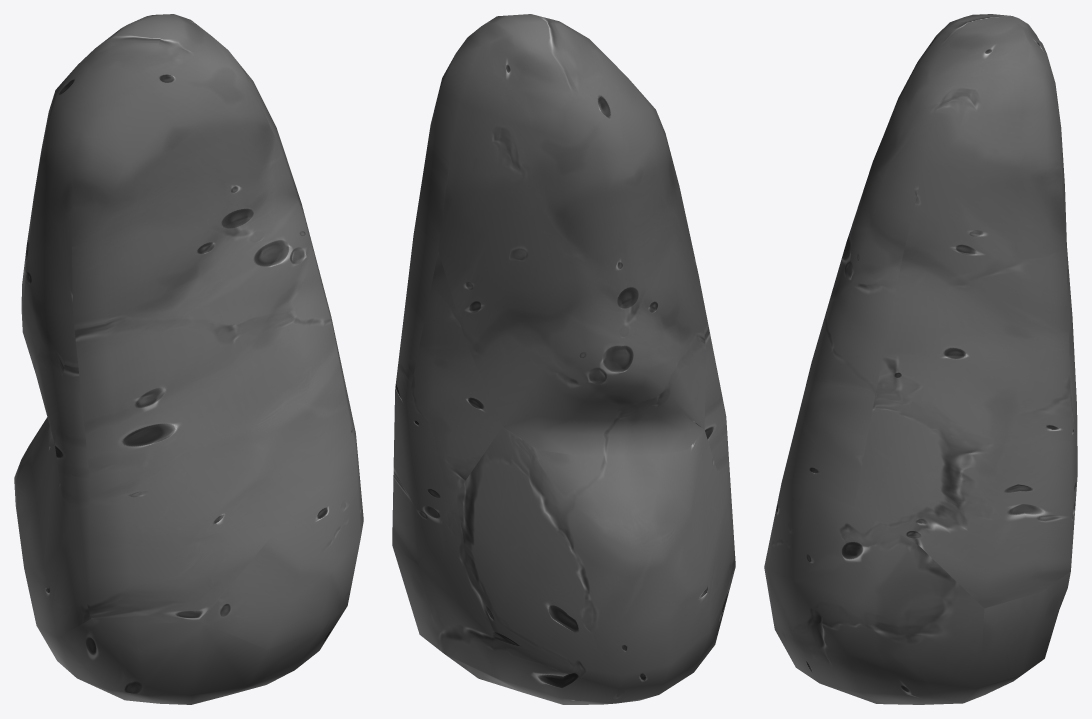
Rendered from SM_ENV_stone_04.fbx.
3 views of the same model, side by side, from view 1: azimuth 30°, elevation 25°; view 2: azimuth 150°, elevation 25°; view 3: azimuth 270°, elevation 25° (orthographic). The views are drawn at different scales.
Parts seen in each view (by area): view 1: SM_ENV_stone_04_LOD0; view 2: SM_ENV_stone_04_LOD0; view 3: SM_ENV_stone_04_LOD0.
Boxes of the visible parts, x1=… form: SM_ENV_stone_04_LOD0: x1=14, y1=14, x2=363, y2=704; SM_ENV_stone_04_LOD0: x1=392, y1=14, x2=735, y2=704; SM_ENV_stone_04_LOD0: x1=764, y1=14, x2=1077, y2=704.
Size of what is drawn, in the model's own units: 171 by 364 by 157.
